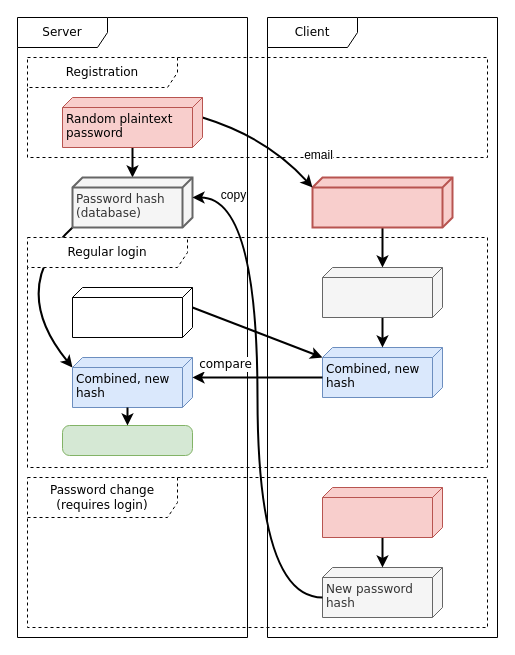
Some shapes in this 515 by 655 pixel diagram are drawn without their labels. The shapes that lost their labels are listed below. From the top down, each one's centre as x and y in pixels, then its label:
the point at 382,202: Plaintext password (brain)
the point at 132,312: Random text
the point at 382,292: Password hash
the point at 127,440: Login on match
the point at 382,512: New plaintext password
